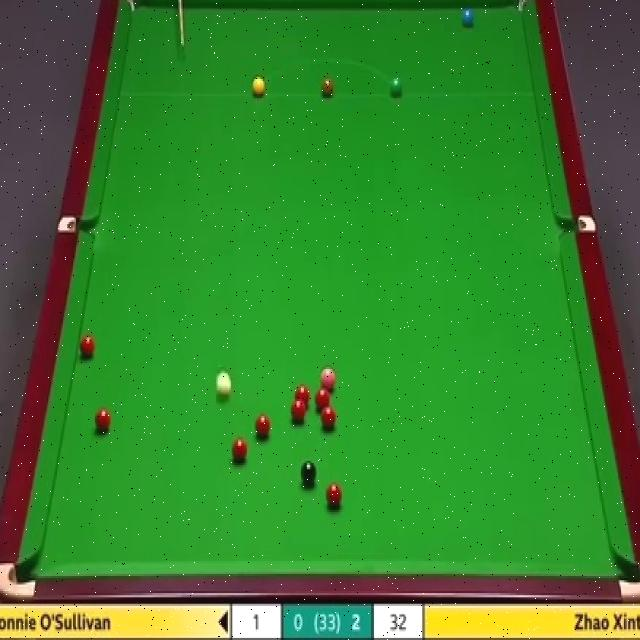black-ball: (300, 461, 318, 486)
blue-ball: (460, 6, 474, 28)
brown-ball: (322, 77, 336, 98)
green-ball: (388, 77, 404, 99)
pink-ball: (320, 365, 338, 391)
red-ball: (94, 405, 110, 434), (290, 399, 308, 424), (319, 404, 336, 430), (231, 438, 249, 462), (316, 388, 332, 413), (294, 384, 311, 407), (79, 336, 96, 359), (254, 413, 270, 437), (327, 483, 342, 506)
white-ball: (216, 370, 231, 397)
yellow-ball: (250, 76, 266, 98)
